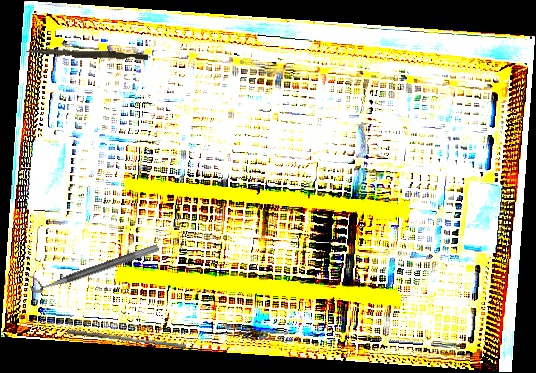Fixation Ring: (26, 232, 160, 296)
Pusher: (66, 329, 187, 350), (25, 48, 149, 61)
